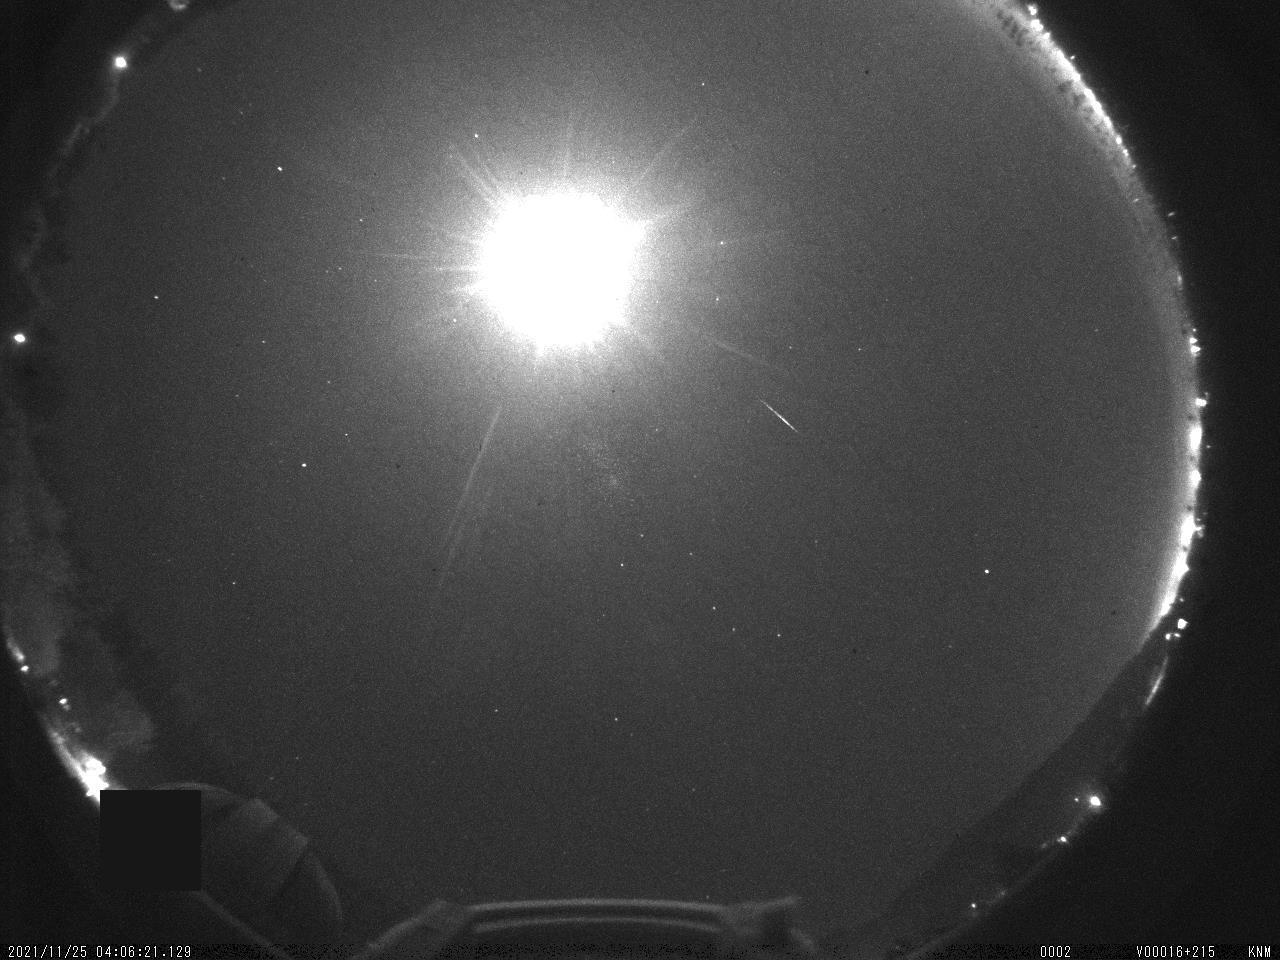Meteor: (756, 393, 801, 437)
